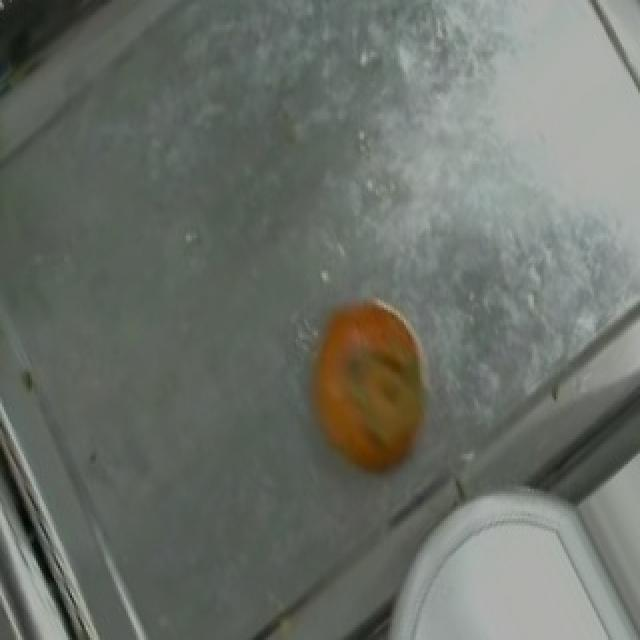Fruit: (288, 278, 454, 491), (394, 503, 634, 640)
